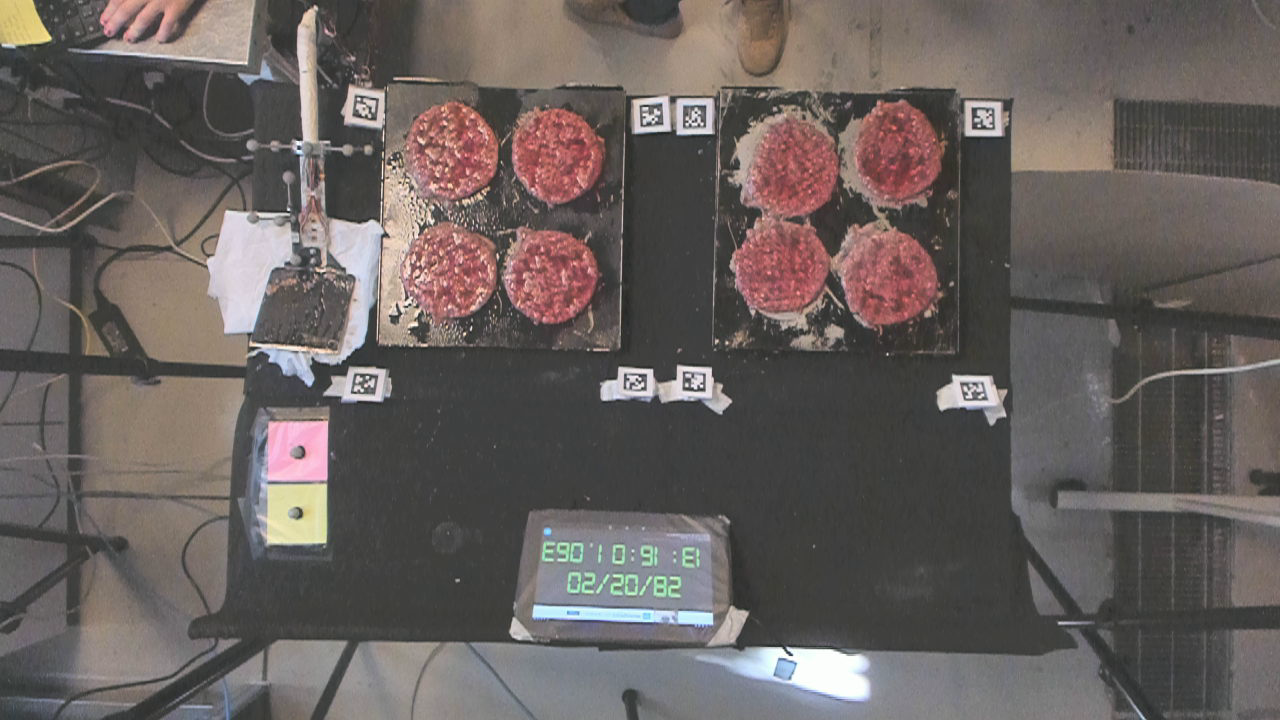hamburger: (395, 216, 498, 329), (837, 228, 938, 327), (403, 100, 498, 199), (734, 219, 832, 312), (507, 231, 602, 325), (749, 117, 841, 213), (513, 105, 602, 204), (858, 96, 940, 202)
marker: (267, 419, 329, 482)
